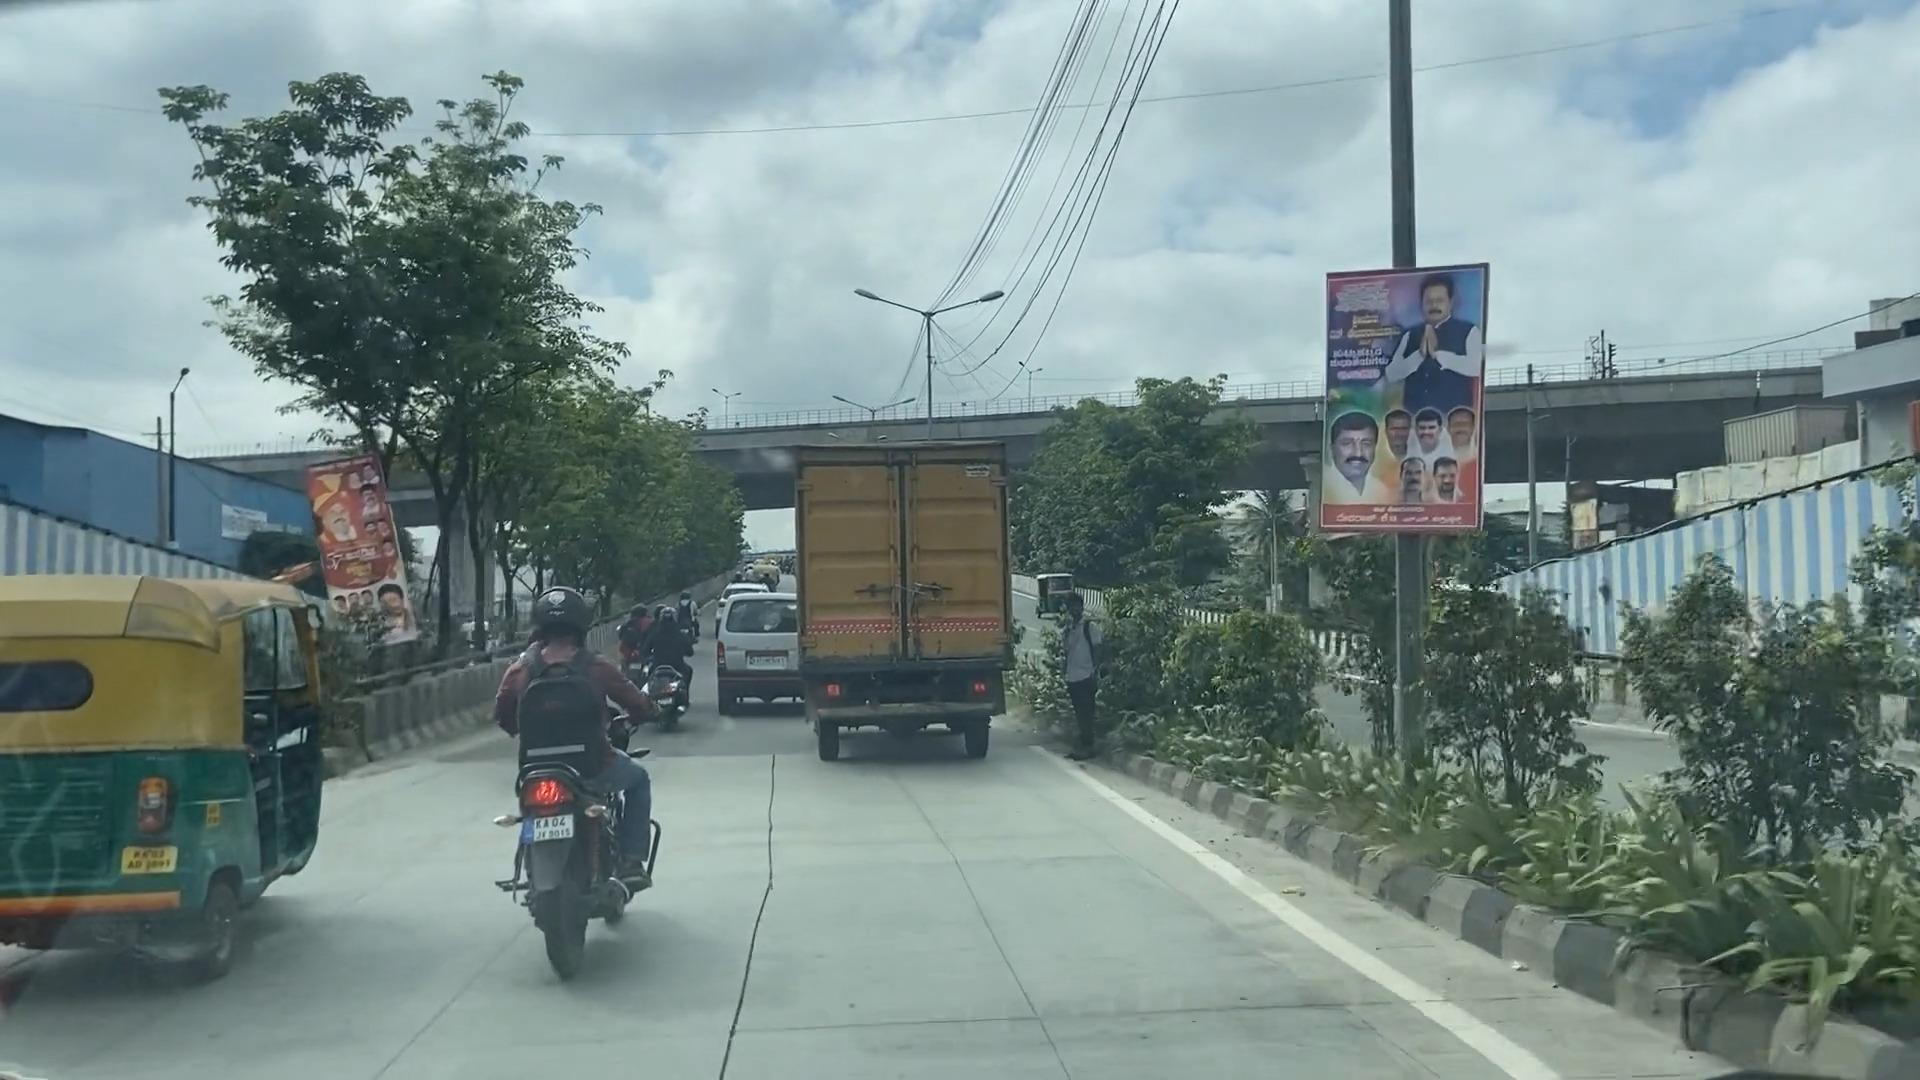HMV: (800, 447, 1009, 750)
LMV: (0, 589, 316, 977), (522, 524, 596, 977), (636, 589, 713, 733)
